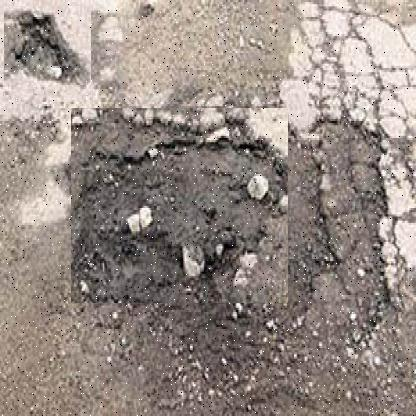crack: (284, 30, 412, 295)
pothole: (70, 108, 288, 304), (3, 6, 91, 96)
